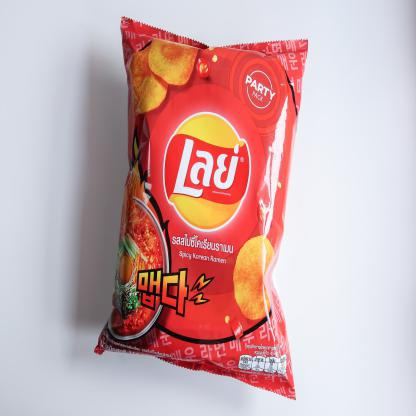potatochip: (92, 8, 312, 406)
